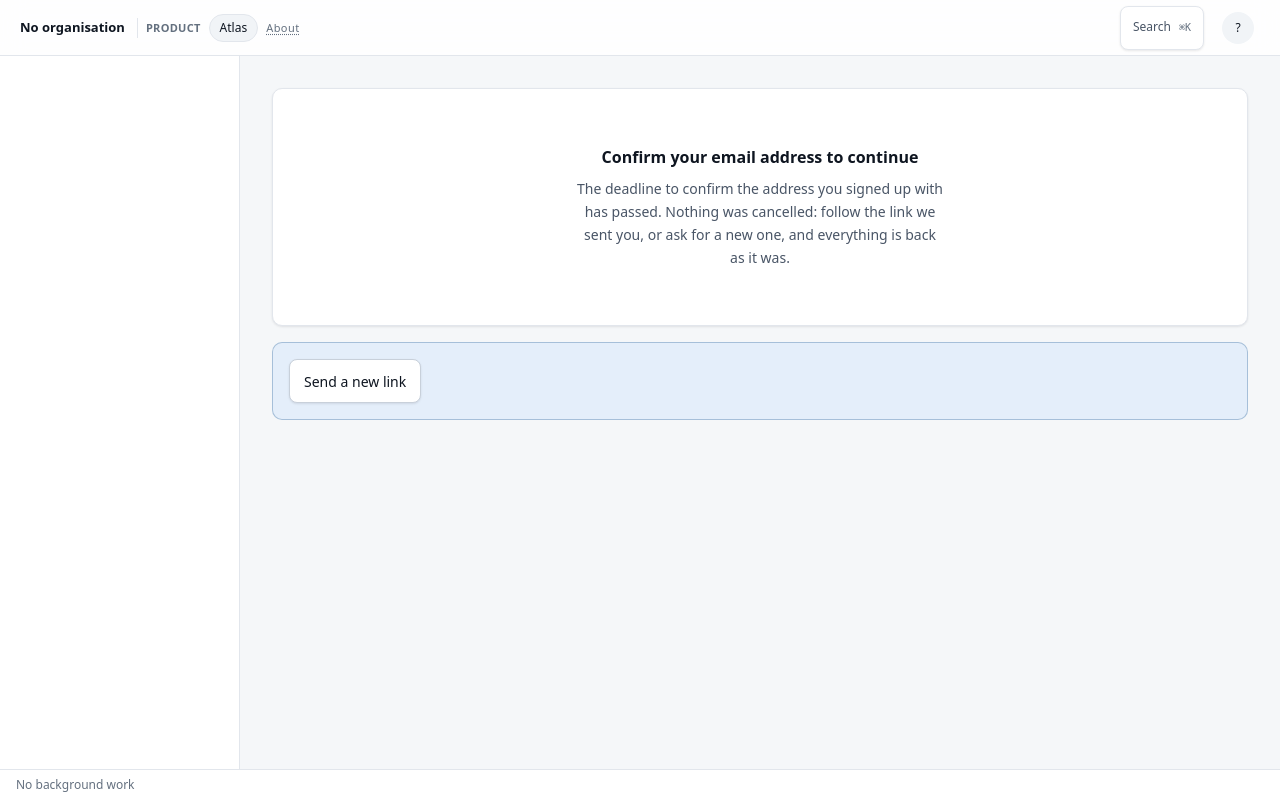
Test: proving an address › gives the refusal past the deadline its own screen, with a new link one click away
Expected: the element with test id "address-overdue" is shown, x1=272 y1=88 x2=1248 y2=420
What coordinates should you click on to do the following:
click the button with test id "resend-confirmation"
I would click on:
 (355, 381)
Its box is x1=289 y1=359 x2=421 y2=403.
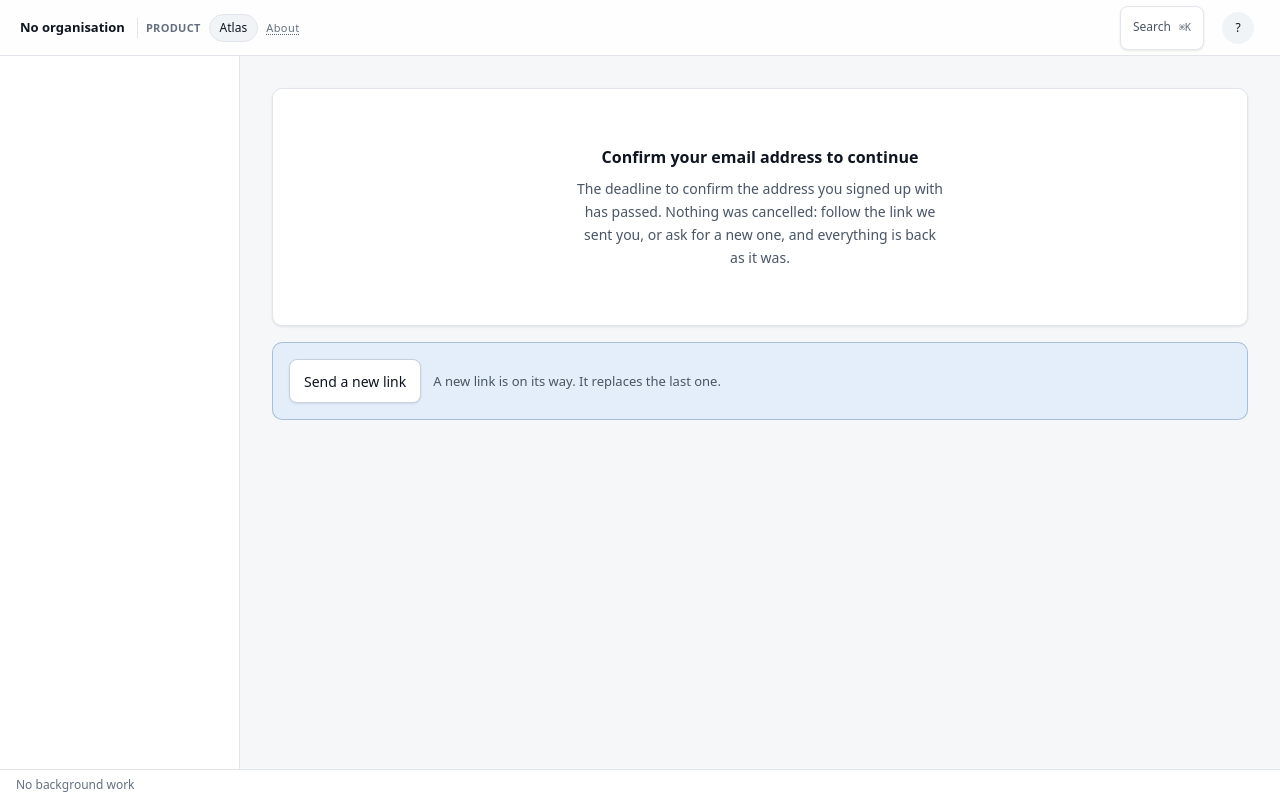
Expected: the text "A new link is on its way. It replaces the last one." is shown, x1=433 y1=370 x2=721 y2=392
